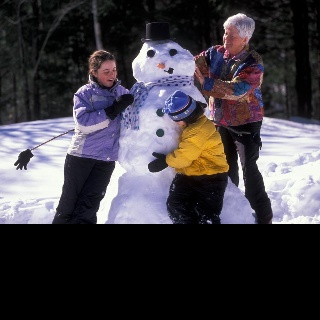without_mask: (97, 60, 117, 88), (223, 27, 242, 49)
